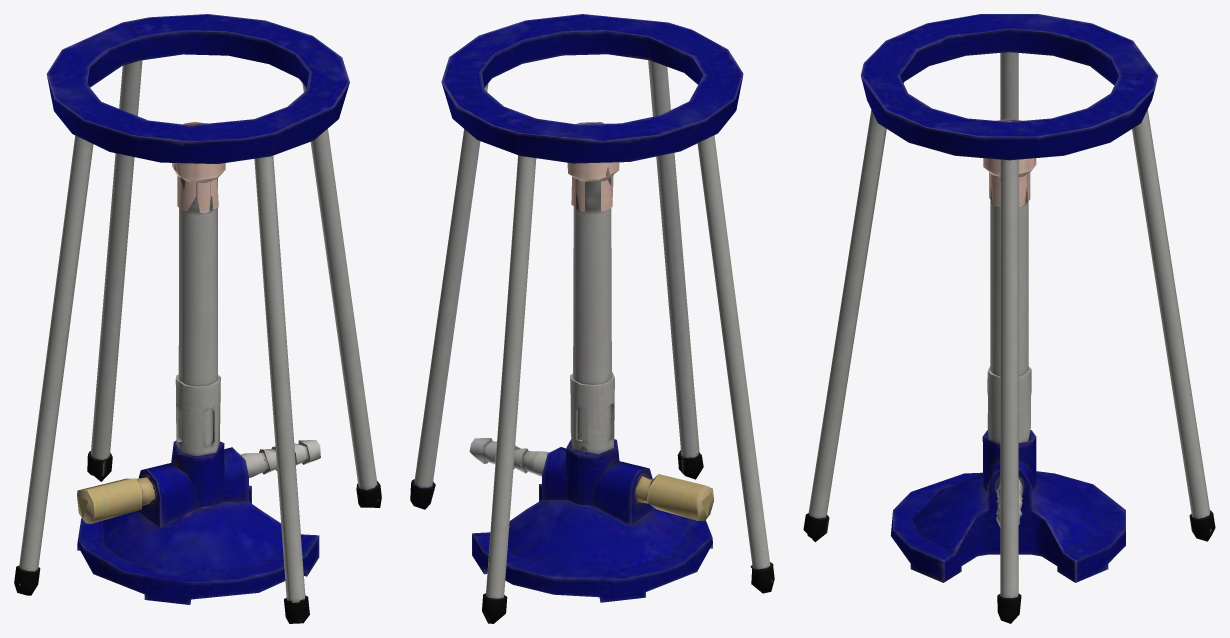
The model's file is bunsen_burner_lod1.glb.
The picture shows the model from 3 angles, left to right: view 1: azimuth 30°, elevation 25°; view 2: azimuth 150°, elevation 25°; view 3: azimuth 270°, elevation 25°; orthographic projection. The views are drawn at different scales.
Bounding box in the file's own units: 0.1382 × 0.1731 × 0.1388.
1 material, 1 textured.
